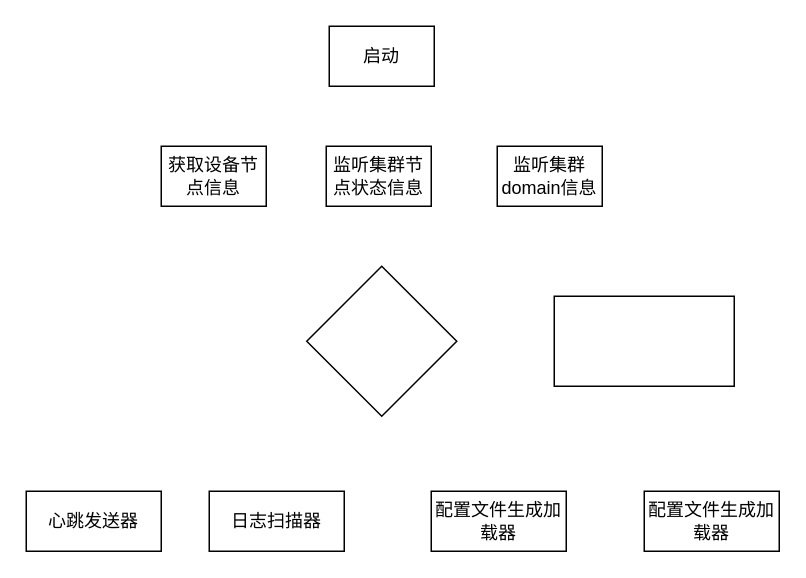
The diagram is 806 pixels wide and 578 high, and some of its shapes have lost their labels. The shapes that lost their labels are listed below. From the top down, each one's centre as x and y in pixels, then its label:
At (x=381, y=340): "etcd版本号校验".
At (x=643, y=340): "拉取并加载所有domain数据".
